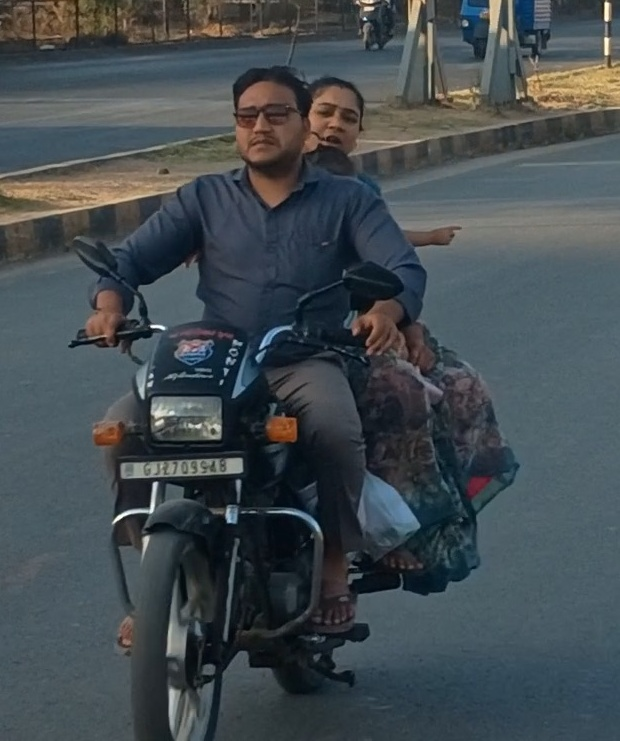BikeWithRider: (67, 62, 517, 741)
NoHelmet: (226, 64, 316, 177), (303, 72, 365, 162)
